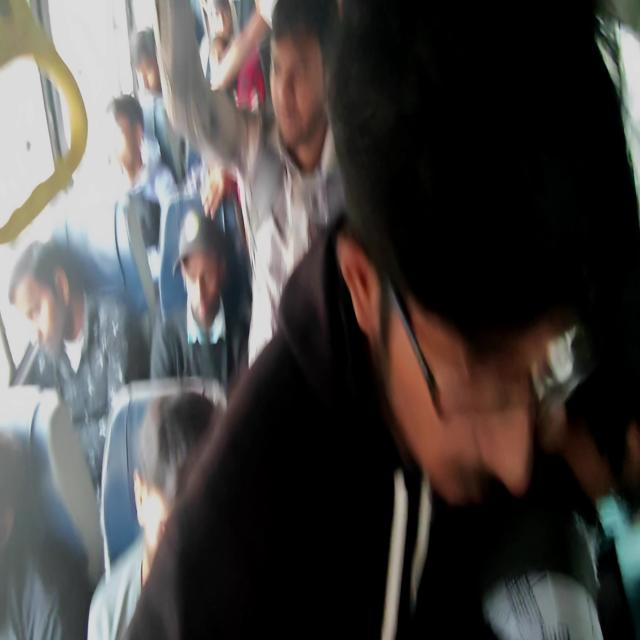person: (160, 1, 342, 375), (377, 258, 573, 513), (92, 385, 217, 639), (44, 393, 104, 582), (8, 238, 84, 364), (108, 187, 158, 317), (175, 206, 227, 324), (271, 0, 334, 55), (200, 2, 240, 88), (107, 93, 144, 131)
